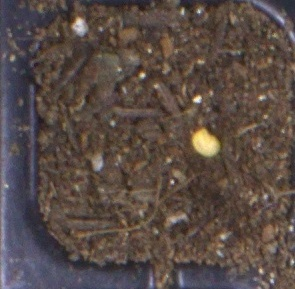chilli seed: (190, 128, 220, 157)
